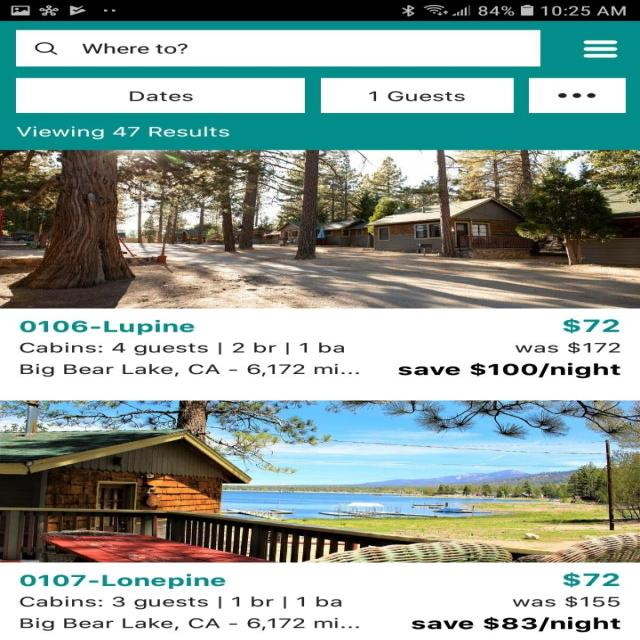EditText: (16, 30, 540, 67)
Icon: (581, 39, 617, 58), (34, 42, 58, 55)
Image: (0, 400, 639, 562), (0, 149, 639, 308)
Text: (21, 342, 360, 377), (21, 596, 360, 630), (398, 362, 620, 378), (412, 616, 620, 632), (20, 574, 225, 588), (20, 319, 194, 335), (15, 126, 228, 139), (512, 595, 620, 607), (514, 342, 620, 354), (81, 43, 188, 54), (562, 317, 618, 334), (562, 572, 618, 587)
TextButton: (16, 78, 305, 113), (320, 78, 513, 113), (528, 78, 625, 113)
